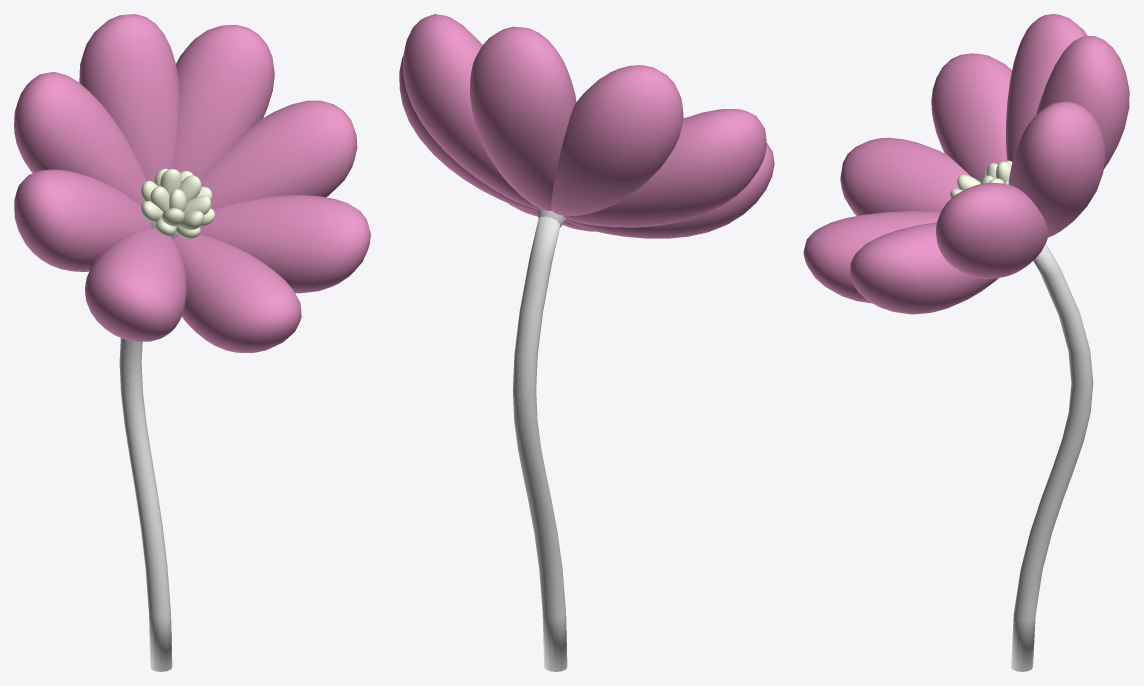
The model's file is floresmale6.fbx.
The picture shows the model from 3 angles, left to right: view 1: azimuth 30°, elevation 25°; view 2: azimuth 150°, elevation 25°; view 3: azimuth 270°, elevation 25°; orthographic projection. The views are drawn at different scales.
Parts seen in each view (by area): view 1: Cube.109, Cube.110, Cube.113, Cube.108, Cube.114, Cube.112, Cube.111, Cube.115, BézierCurve.011; view 2: Cube.112, Cube.108, Cube.111, BézierCurve.011, Cube.109, Cube.115, Cube.110; view 3: BézierCurve.011, Cube.109, Cube.110, Cube.113, Cube.111, Cube.115, Cube.108, Cube.112, Cube.114.
Boxes of the visible parts, x1,y1,x2,y2 form: Cube.109: [172, 24, 274, 181]; Cube.110: [201, 100, 357, 209]; Cube.113: [200, 195, 370, 293]; Cube.108: [79, 14, 178, 182]; Cube.114: [172, 234, 301, 352]; Cube.112: [14, 72, 146, 205]; Cube.111: [14, 169, 151, 271]; Cube.115: [85, 227, 186, 341]; BézierCurve.011: [119, 338, 172, 671]; Cube.112: [551, 65, 683, 215]; Cube.108: [470, 26, 576, 211]; Cube.111: [563, 109, 766, 227]; BézierCurve.011: [512, 216, 567, 671]; Cube.109: [403, 14, 541, 209]; Cube.115: [566, 143, 774, 238]; Cube.110: [399, 56, 537, 211]; BézierCurve.011: [1011, 243, 1093, 671]; Cube.109: [1008, 101, 1105, 237]; Cube.110: [935, 183, 1048, 278]; Cube.113: [850, 222, 998, 314]; Cube.111: [931, 53, 1011, 182]; Cube.115: [840, 137, 970, 215]; Cube.108: [1036, 36, 1129, 169]; Cube.112: [1006, 14, 1087, 161]; Cube.114: [803, 211, 940, 303].
Size of the model in its own units: 47.07 by 85.04 by 40.05.
